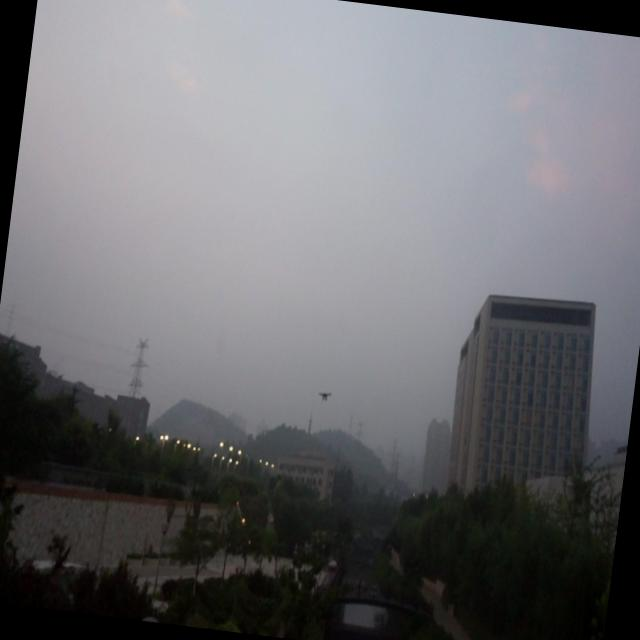drone: (315, 387, 334, 406)
